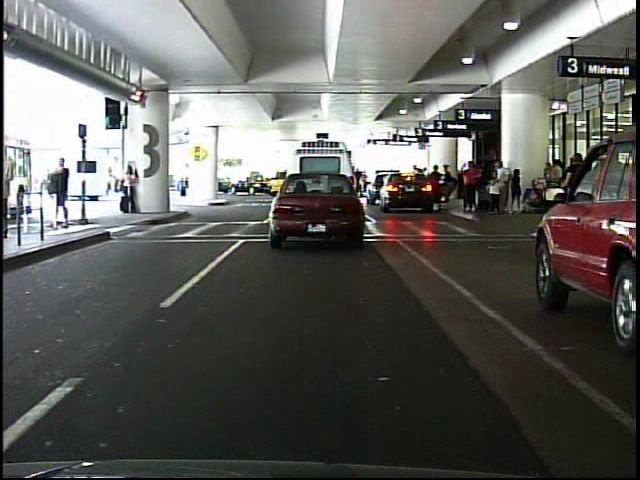person: (52, 153, 76, 233), (4, 149, 23, 244), (119, 161, 141, 216), (170, 159, 196, 202), (462, 161, 481, 215), (561, 149, 585, 179)
